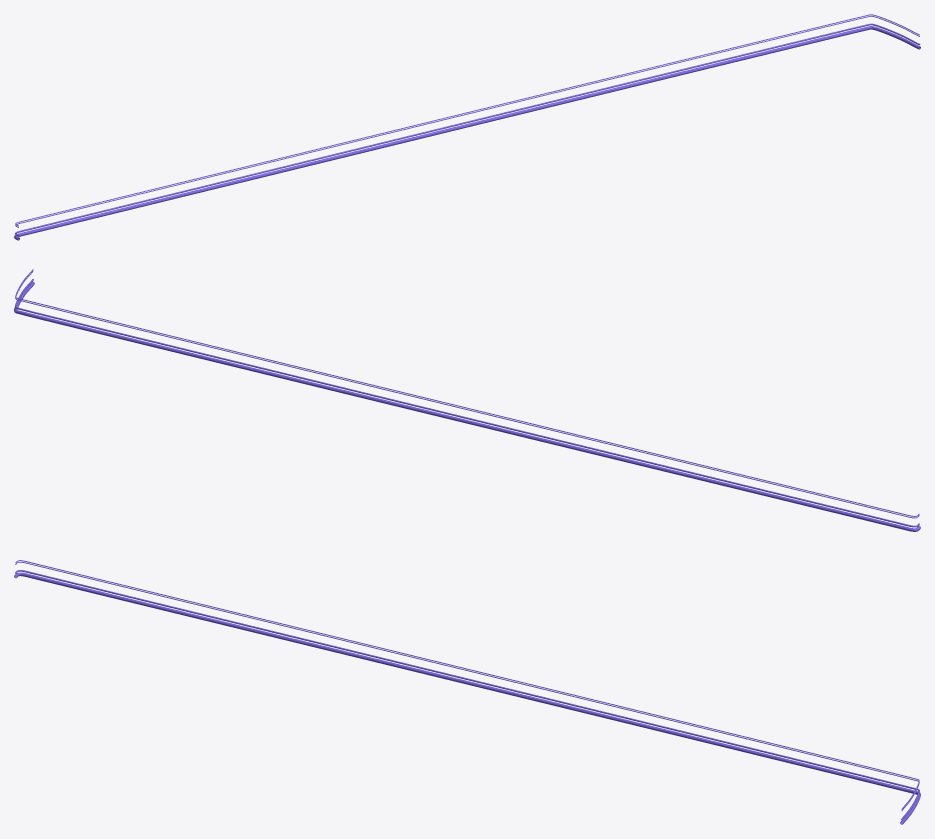
Rendered from Pipes.fbx.
3 views of the same model, one above another, from view 1: azimuth 30°, elevation 25°; view 2: azimuth 150°, elevation 25°; view 3: azimuth 330°, elevation 25° (orthographic). The views are drawn at different scales.
Parts seen in each view (by area): view 1: BezierCurve.054; view 2: BezierCurve.054; view 3: BezierCurve.054.
Boxes of the visible parts, x1=… form: BezierCurve.054: x1=14, y1=14, x2=920, y2=240; BezierCurve.054: x1=14, y1=269, x2=920, y2=531; BezierCurve.054: x1=14, y1=560, x2=920, y2=824.
Size of the model in its own units: 4069 by 71.01 by 273.
